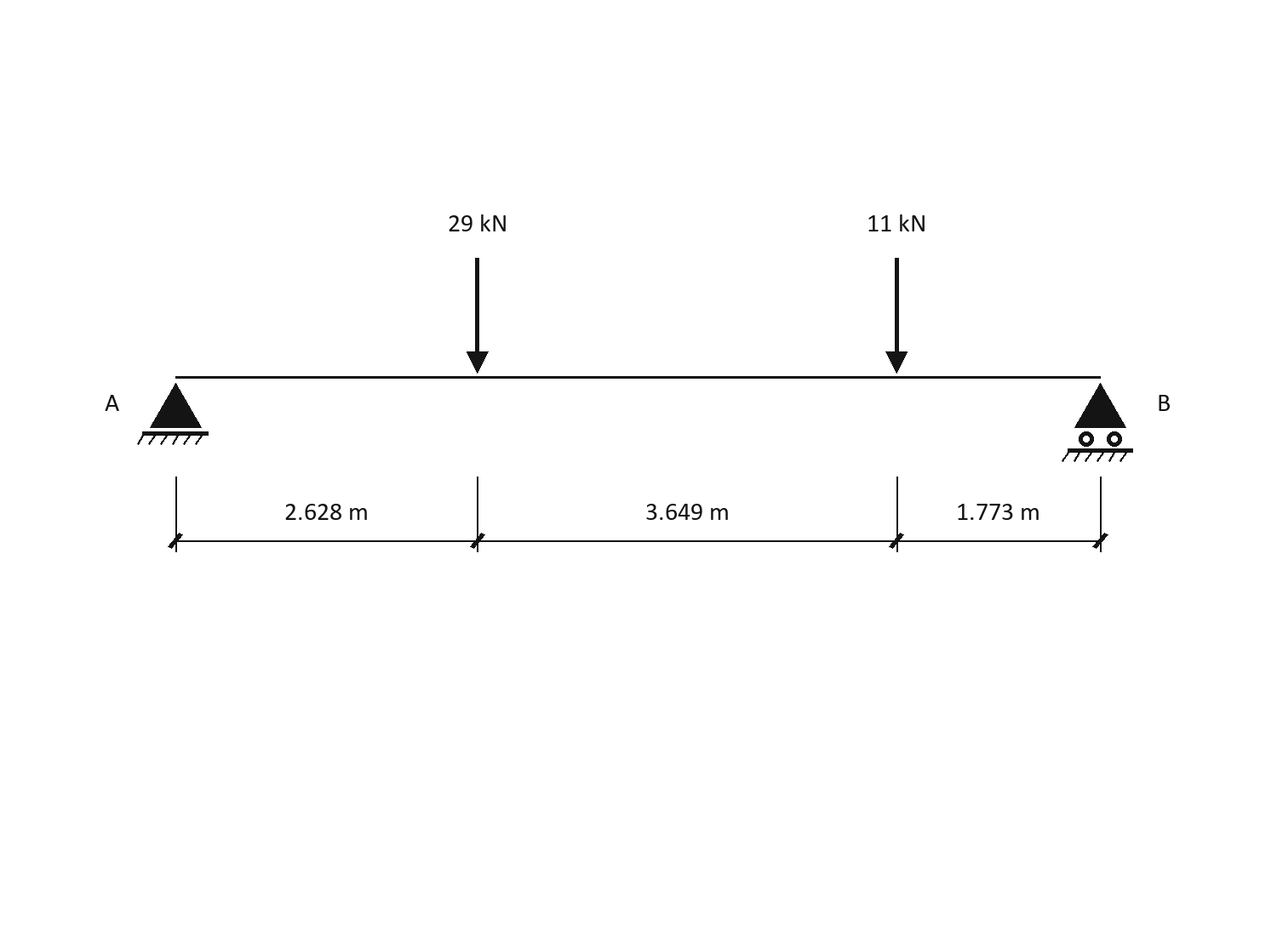pin_support: (137, 383, 209, 445)
point_load: (885, 258, 908, 374), (467, 258, 489, 374)
roller_support: (1062, 383, 1133, 462)
